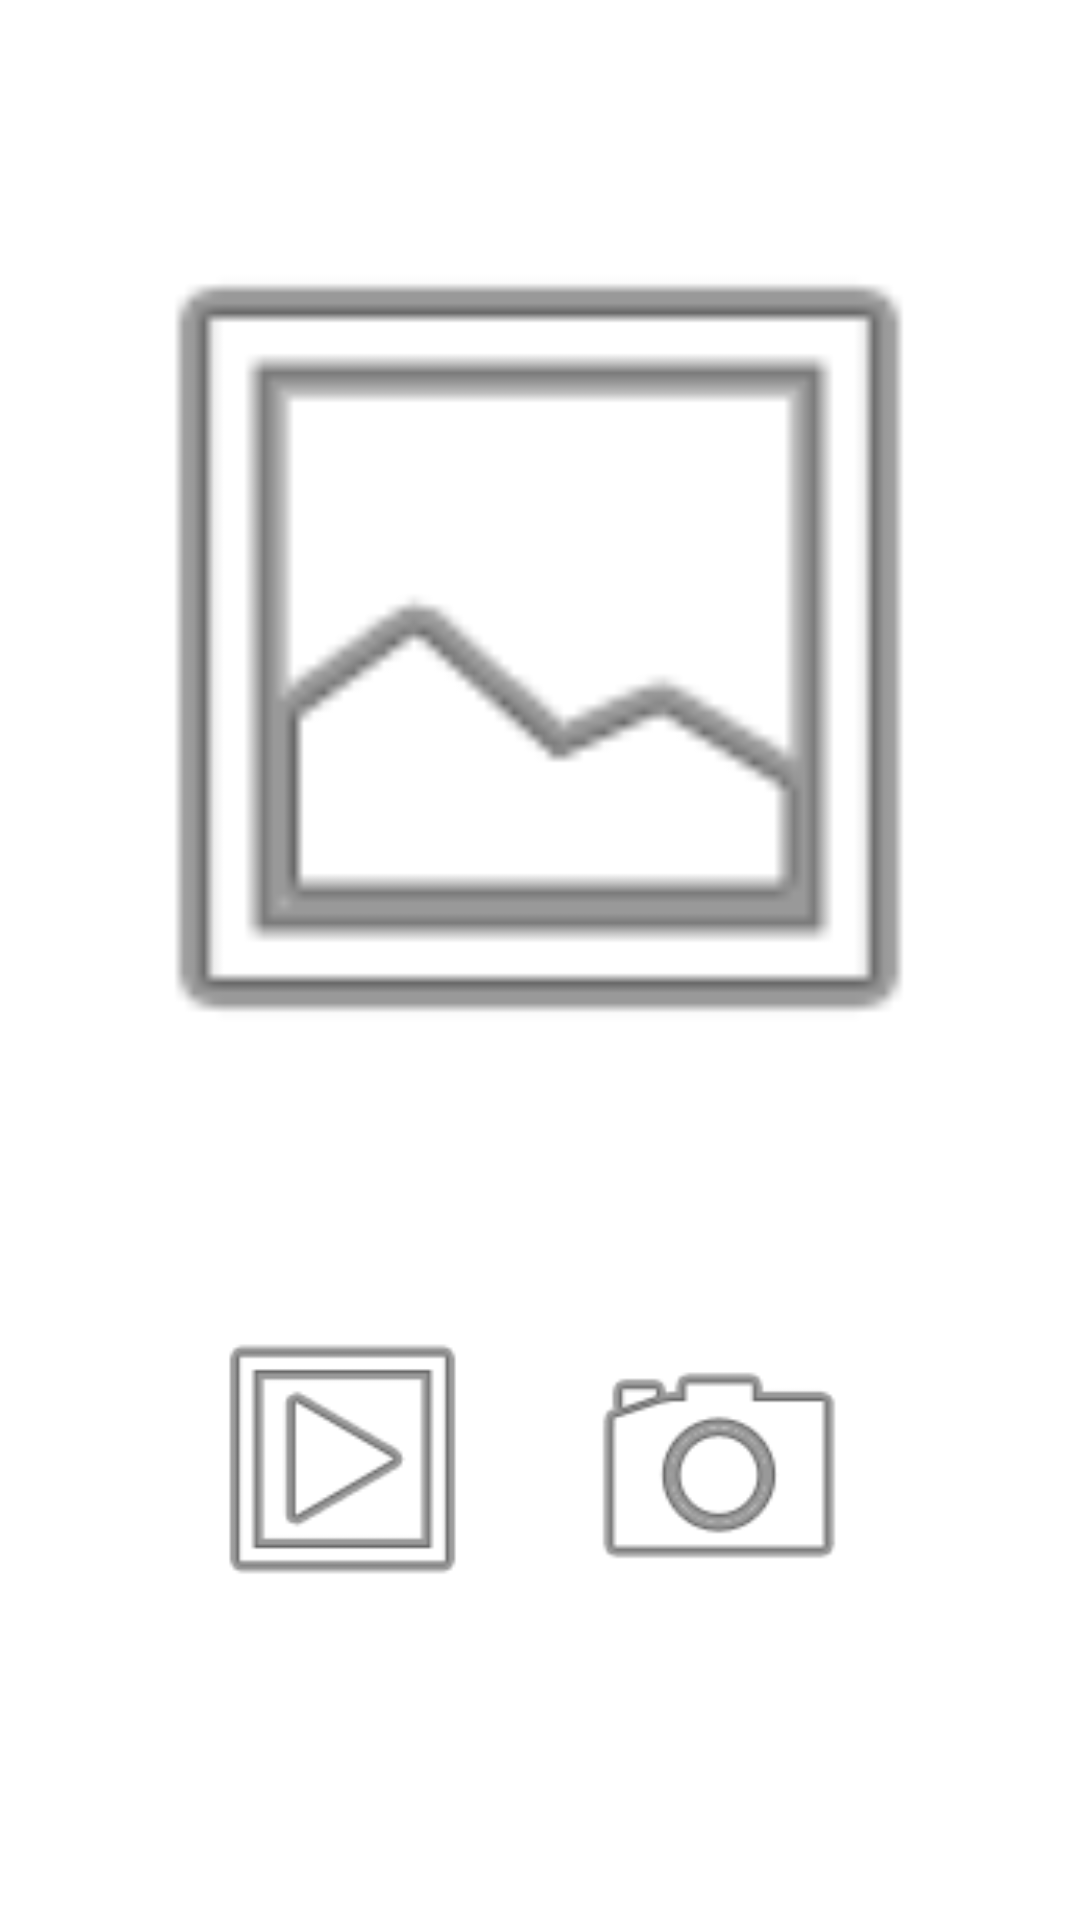

Screen size 1080px x 1920px. Icon name, then its box in pixels as box=[x1, y1, x2, y2]:
camera: box=[603, 1373, 835, 1558]
slideshow: box=[229, 1345, 456, 1573]
